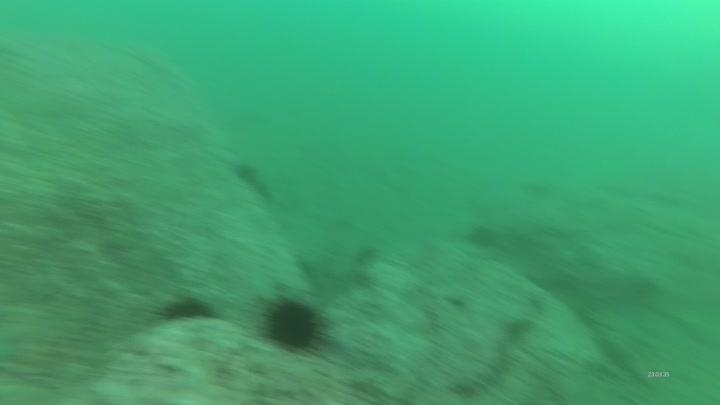echinus: (259, 292, 329, 354), (156, 292, 216, 325), (464, 221, 500, 251)
starfish: (294, 247, 367, 301)
